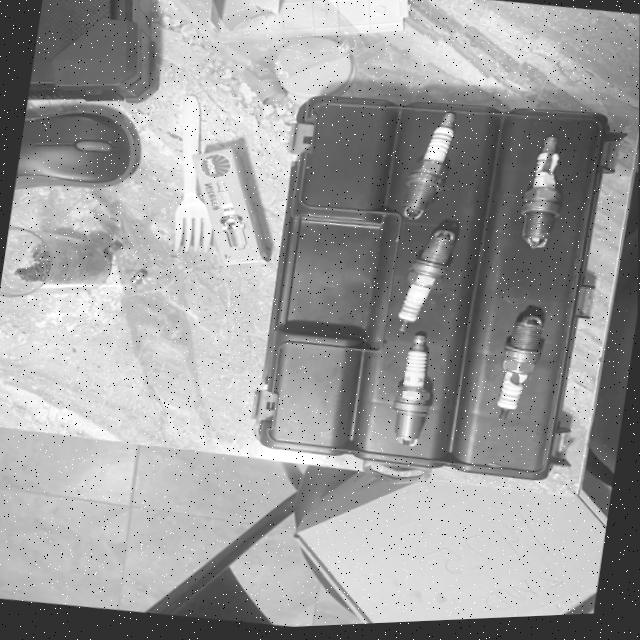damaged_spark-plug: (491, 314, 549, 429), (521, 137, 563, 249)
spark-plug: (388, 228, 459, 339), (400, 109, 456, 232), (386, 330, 439, 453)
